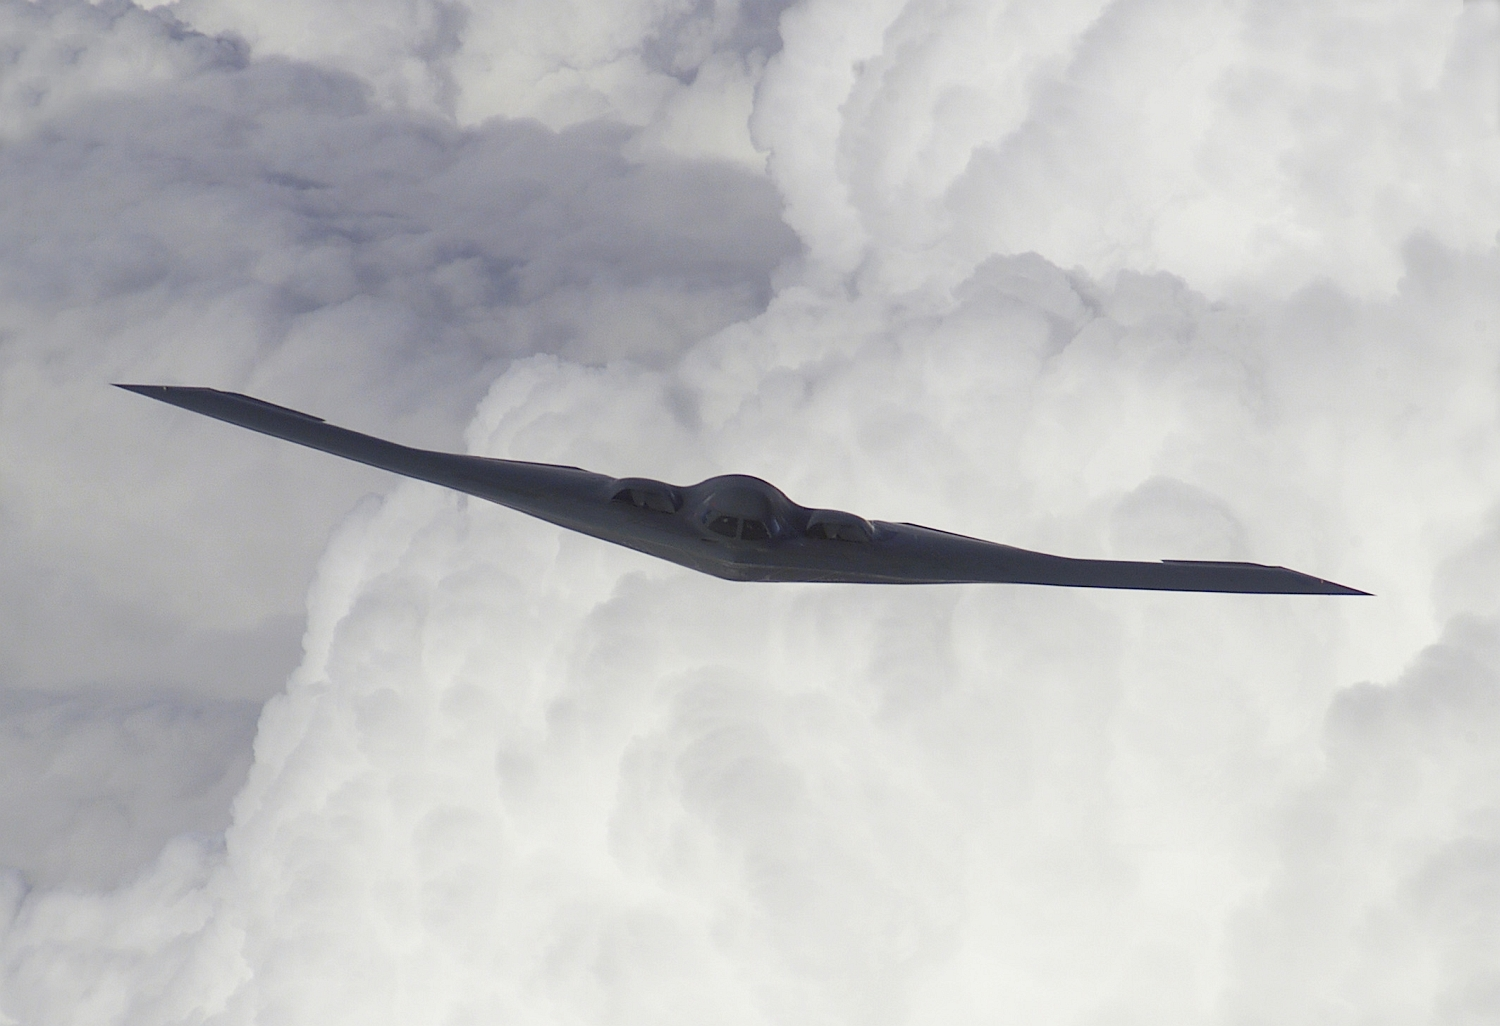B2: (109, 382, 1372, 596)
